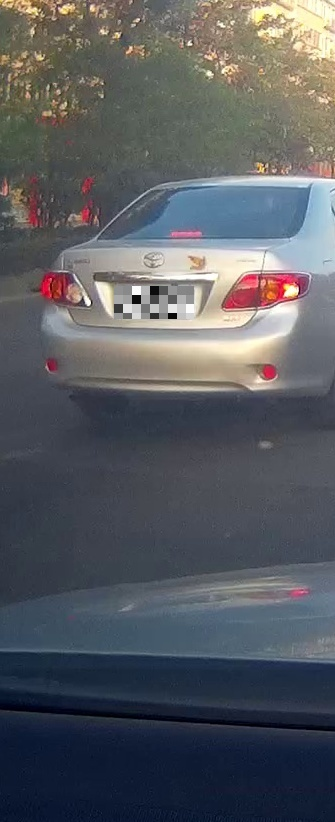L_light: (37, 269, 93, 309)
R_light: (218, 270, 313, 312)
T_light: (167, 229, 205, 240)
day-right: (36, 175, 325, 432)
plate_1: (114, 286, 194, 319)
